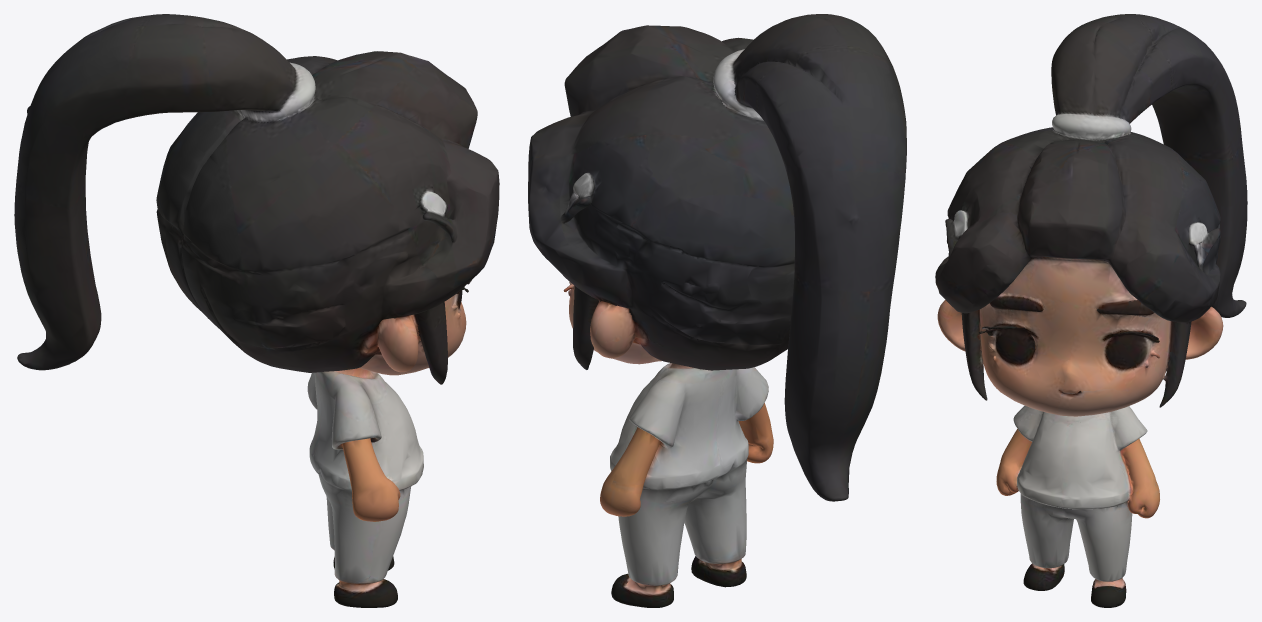
File: hair_f2-web.glb
3 views of the same model, side by side, from view 1: azimuth 30°, elevation 25°; view 2: azimuth 150°, elevation 25°; view 3: azimuth 270°, elevation 25° (orthographic). The views are drawn at different scales.
Parts seen in each view (by area): view 1: tripo_node_89327d92-9b59-40aa-9524-17e7f0e35390; view 2: tripo_node_89327d92-9b59-40aa-9524-17e7f0e35390; view 3: tripo_node_89327d92-9b59-40aa-9524-17e7f0e35390.
Part boxes in pixels (bbox=[...]): tripo_node_89327d92-9b59-40aa-9524-17e7f0e35390: bbox=[14, 14, 499, 607]; tripo_node_89327d92-9b59-40aa-9524-17e7f0e35390: bbox=[528, 14, 906, 607]; tripo_node_89327d92-9b59-40aa-9524-17e7f0e35390: bbox=[935, 14, 1247, 607].
Size of the model in its own units: 0.6589 by 0.9998 by 0.5641.
1 material, 1 textured.
